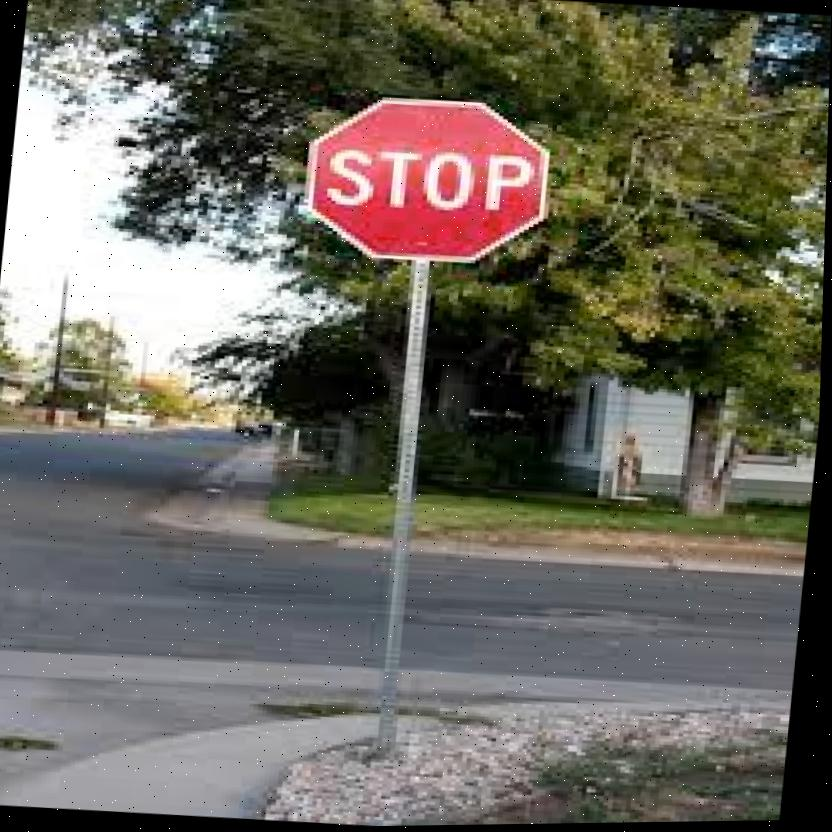Pole: (369, 264, 432, 767)
Sign: (298, 90, 557, 272)
